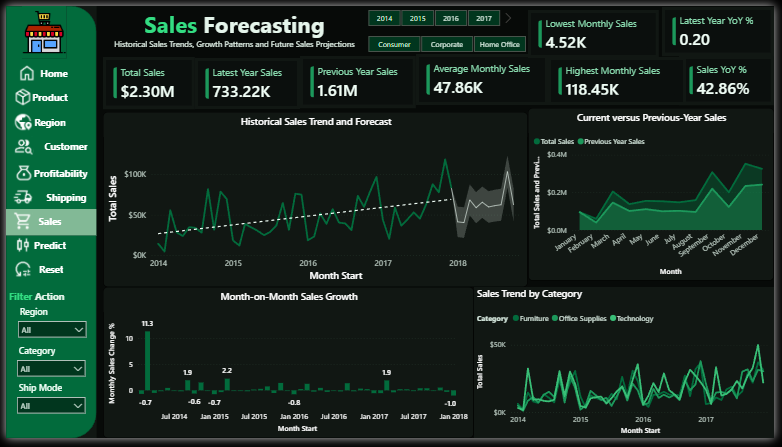

The page's visual inventory and layout, read from the dashboard file:
{"tool":"powerbi","page":{"name":"Sales Forecasting","canvas":[1280,720],"ordinal":7},"visuals":[{"type":"textbox","box":[150,0,461.7,81.7],"z":0},{"type":"shape","box":[0,0,150.6,720.5],"z":1000},{"type":"cardVisual","fields":{"Data":["_Measures.Total Sales"]},"box":[161.7,85,153.3,86.7],"z":2000},{"type":"cardVisual","fields":{"Data":["_Measures.Previous Year Sales"]},"box":[490,83.3,193.3,86.7],"z":3000},{"type":"lineChart","title":"Historical Sales Trend and Forecast","fields":{"Y":["_Measures.Total Sales"],"Category":["DimDate.Month Start"]},"box":[161.7,176.7,708.3,291.7],"z":4000},{"type":"cardVisual","fields":{"Data":["_Measures.Sales YoY %"]},"box":[1121.7,83.3,158.3,81.7],"z":5000},{"type":"cardVisual","fields":{"Data":["_Measures.Average Monthly Sales"]},"box":[683.3,80,220,85],"z":6000},{"type":"cardVisual","fields":{"Data":["_Measures.Highest Monthly Sales"]},"box":[903.3,85,230,80],"z":7000},{"type":"cardVisual","fields":{"Data":["_Measures.Lowest Monthly Sales"]},"box":[870,6.7,218.3,80],"z":8000},{"type":"textbox","box":[0,468,160.9,35.4],"z":9000},{"type":"slicer","fields":{"Values":["DimLocation.Region"]},"box":[10.3,493.1,134.3,65],"z":10000},{"type":"slicer","fields":{"Values":["DimProduct.Category"]},"box":[8.9,558.1,134.3,62],"z":11000},{"type":"slicer","fields":{"Values":["DimShipMode.Ship Mode"]},"box":[8.9,620.1,134.3,59.1],"z":12000},{"type":"actionButton","title":"Home","box":[10.3,212.6,129.9,39.9],"z":13000},{"type":"actionButton","box":[8.9,417.8,134.3,39.9],"z":14000},{"type":"actionButton","title":"Home","box":[8.9,172.7,129.9,39.9],"z":15000},{"type":"actionButton","title":"Home","box":[8.9,131.4,129.9,39.9],"z":16000},{"type":"actionButton","title":"Home","box":[10.3,258.4,129.9,39.9],"z":17000},{"type":"actionButton","title":"Home","box":[8.9,298.2,129.9,39.9],"z":18000},{"type":"shape","box":[0,338.1,150.6,44.3],"z":19000},{"type":"actionButton","title":"Home","box":[8.9,377.9,129.9,39.9],"z":20000},{"type":"actionButton","title":"Home","box":[14.8,91.5,129.9,39.9],"z":21000},{"type":"actionButton","title":"Home","box":[8.9,338.1,129.9,39.9],"z":22000},{"type":"slicer","fields":{"Values":["DimDate.Year"]},"box":[578.3,0,269.3,40.3],"z":23000},{"type":"slicer","fields":{"Values":["DimCustomer.Segment"]},"box":[578.3,43.3,311.7,36.7],"z":24000},{"type":"cardVisual","fields":{"Data":["_Measures.Latest Year Sales YoY %"]},"box":[1093.3,1.7,186.7,81.7],"z":25000},{"type":"cardVisual","fields":{"Data":["_Measures.Latest Year Sales"]},"box":[315,86.7,175,85],"z":26000},{"type":"areaChart","title":"Current versus Previous-Year Sales","fields":{"Category":["DimDate.Month"],"Y":["_Measures.Total Sales","_Measures.Previous Year Sales"]},"box":[870,170,410,288.3],"z":27000},{"type":"columnChart","title":"Month-on-Month Sales Growth","fields":{"Category":["DimDate.Month Start"],"Y":["_Measures.Monthly Sales Change %"]},"box":[161.7,468.3,618.3,251.7],"z":28000},{"type":"lineChart","title":"Sales Trend by Category","fields":{"Category":["DimDate.Month Start"],"Y":["_Measures.Total Sales"],"Series":["DimProduct.Category"]},"box":[780,468.3,500,251.7],"z":29000},{"type":"image","box":[26.6,0,73.8,87.1],"z":30000}]}

Visuals, with their boxes on the page's 1280x720 design canvas (x1, y1, x2, y2). These are canvas units, not pixel positions in the 782x447 screenshot, which may show the page scaled, cropped or inside an application window:
textbox: x1=150 y1=0 x2=612 y2=82
shape: x1=0 y1=0 x2=151 y2=720
cardVisual - _Measures.Total Sales: x1=162 y1=85 x2=315 y2=172
cardVisual - _Measures.Previous Year Sales: x1=490 y1=83 x2=683 y2=170
"Historical Sales Trend and Forecast" lineChart: x1=162 y1=177 x2=870 y2=468
cardVisual - _Measures.Sales YoY %: x1=1122 y1=83 x2=1280 y2=165
cardVisual - _Measures.Average Monthly Sales: x1=683 y1=80 x2=903 y2=165
cardVisual - _Measures.Highest Monthly Sales: x1=903 y1=85 x2=1133 y2=165
cardVisual - _Measures.Lowest Monthly Sales: x1=870 y1=7 x2=1088 y2=87
textbox: x1=0 y1=468 x2=161 y2=503
slicer - DimLocation.Region: x1=10 y1=493 x2=145 y2=558
slicer - DimProduct.Category: x1=9 y1=558 x2=143 y2=620
slicer - DimShipMode.Ship Mode: x1=9 y1=620 x2=143 y2=679
"Home" actionButton: x1=10 y1=213 x2=140 y2=252
actionButton: x1=9 y1=418 x2=143 y2=458
"Home" actionButton: x1=9 y1=173 x2=139 y2=213
"Home" actionButton: x1=9 y1=131 x2=139 y2=171
"Home" actionButton: x1=10 y1=258 x2=140 y2=298
"Home" actionButton: x1=9 y1=298 x2=139 y2=338
shape: x1=0 y1=338 x2=151 y2=382
"Home" actionButton: x1=9 y1=378 x2=139 y2=418
"Home" actionButton: x1=15 y1=92 x2=145 y2=131
"Home" actionButton: x1=9 y1=338 x2=139 y2=378
slicer - DimDate.Year: x1=578 y1=0 x2=848 y2=40
slicer - DimCustomer.Segment: x1=578 y1=43 x2=890 y2=80
cardVisual - _Measures.Latest Year Sales YoY %: x1=1093 y1=2 x2=1280 y2=83
cardVisual - _Measures.Latest Year Sales: x1=315 y1=87 x2=490 y2=172
"Current versus Previous-Year Sales" areaChart: x1=870 y1=170 x2=1280 y2=458
"Month-on-Month Sales Growth" columnChart: x1=162 y1=468 x2=780 y2=720
"Sales Trend by Category" lineChart: x1=780 y1=468 x2=1280 y2=720
image: x1=27 y1=0 x2=100 y2=87
